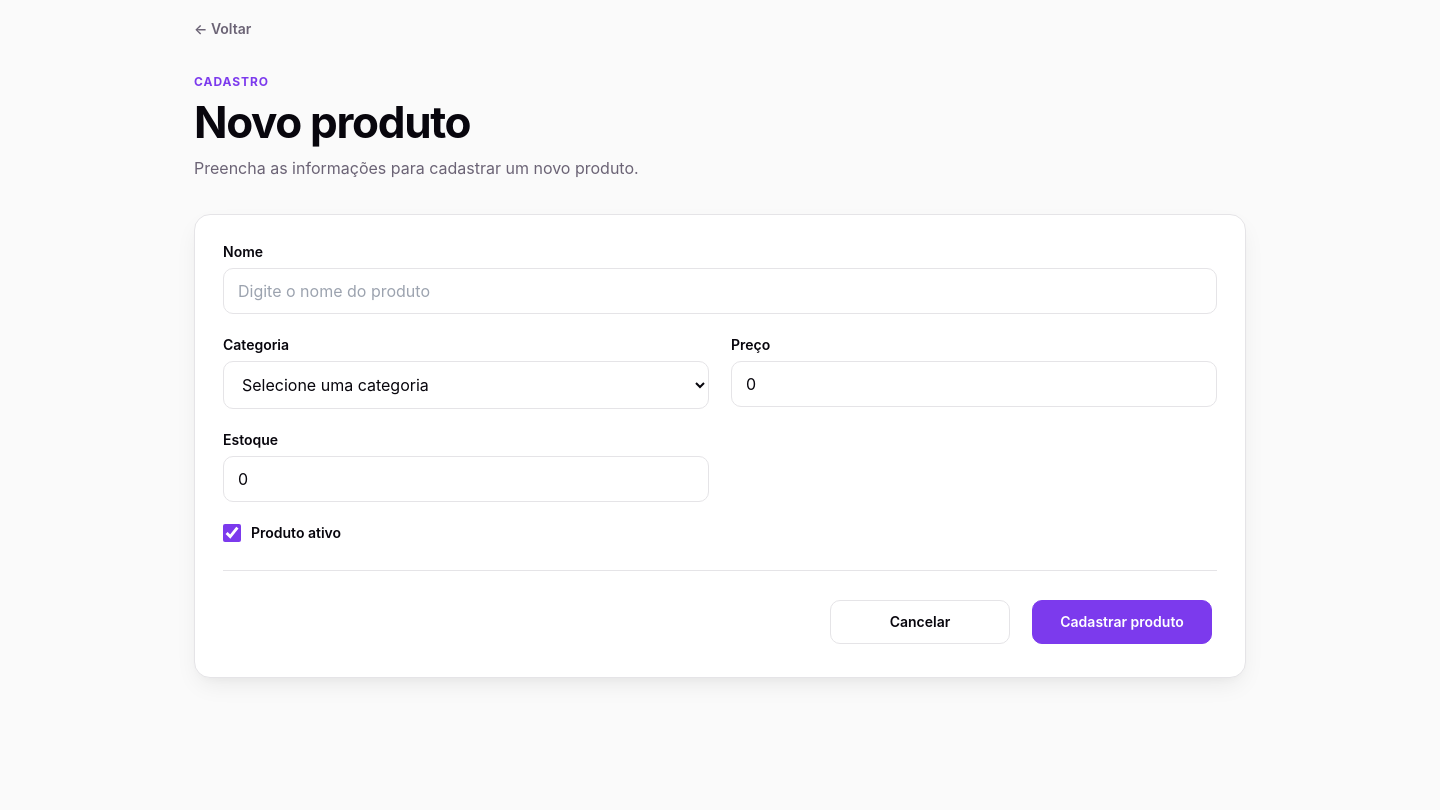
Scenario: ProductFormPage › cria um produto válido
The image size is (1440, 810).
Type "Teclado" into the field labelled "Nome".
click(720, 291); type("Teclado")  # box x1=223 y1=268 x2=1217 y2=314
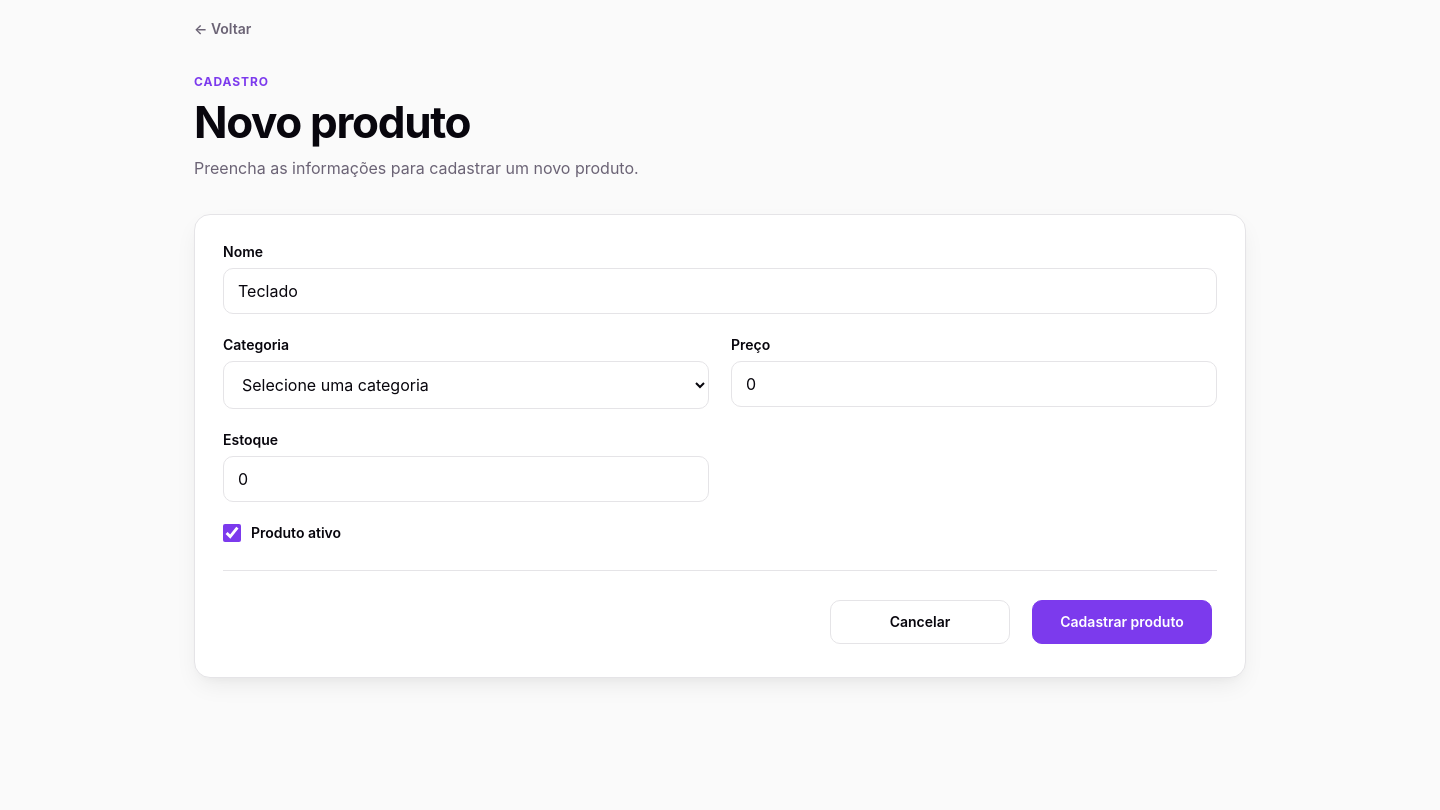
Select "Periféricos" in the dropdown labelled "Categoria" at [466, 385], box x1=223 y1=361 x2=709 y2=409
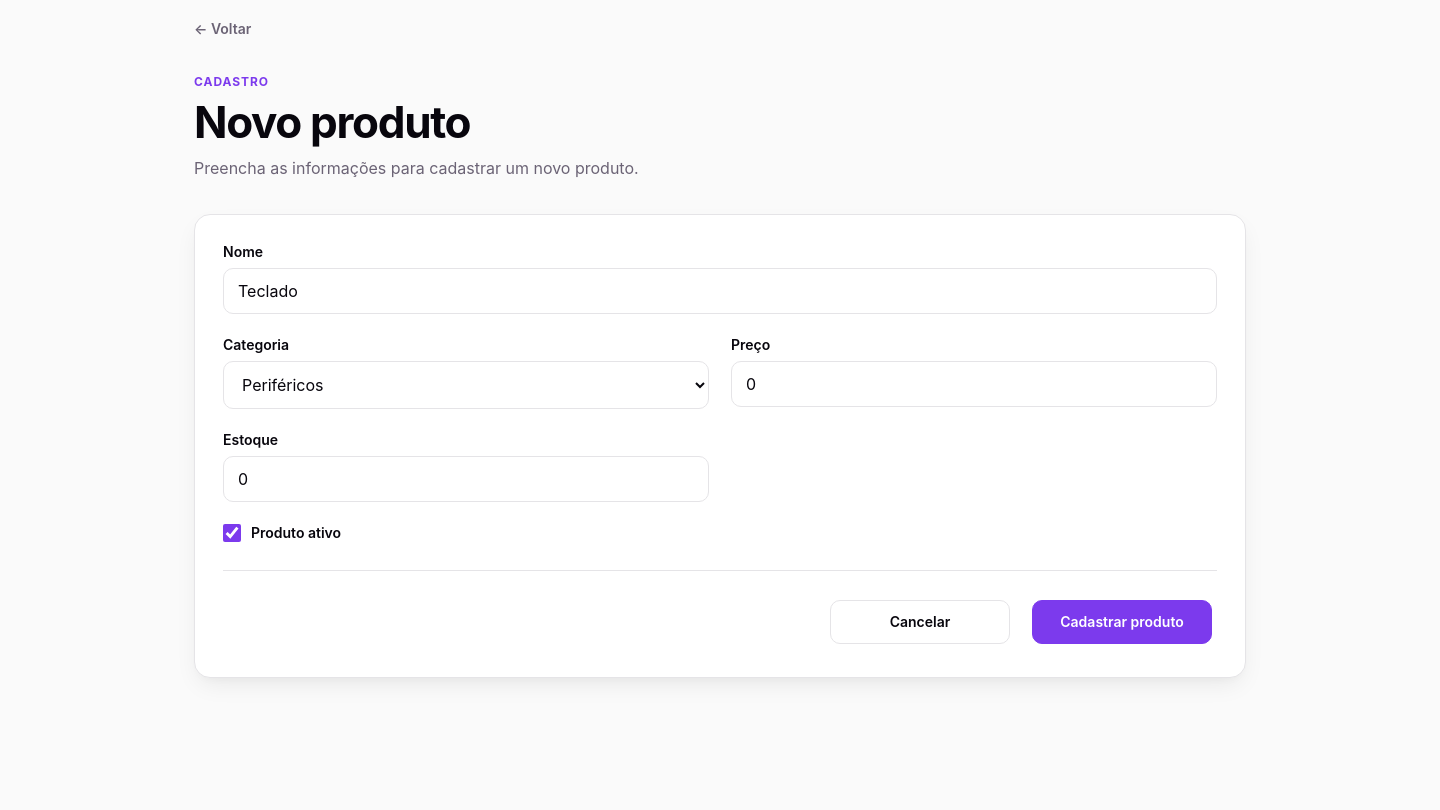
Replace the text in the number field labelled "Preço" with "100" at [974, 384], box x1=731 y1=361 x2=1217 y2=407
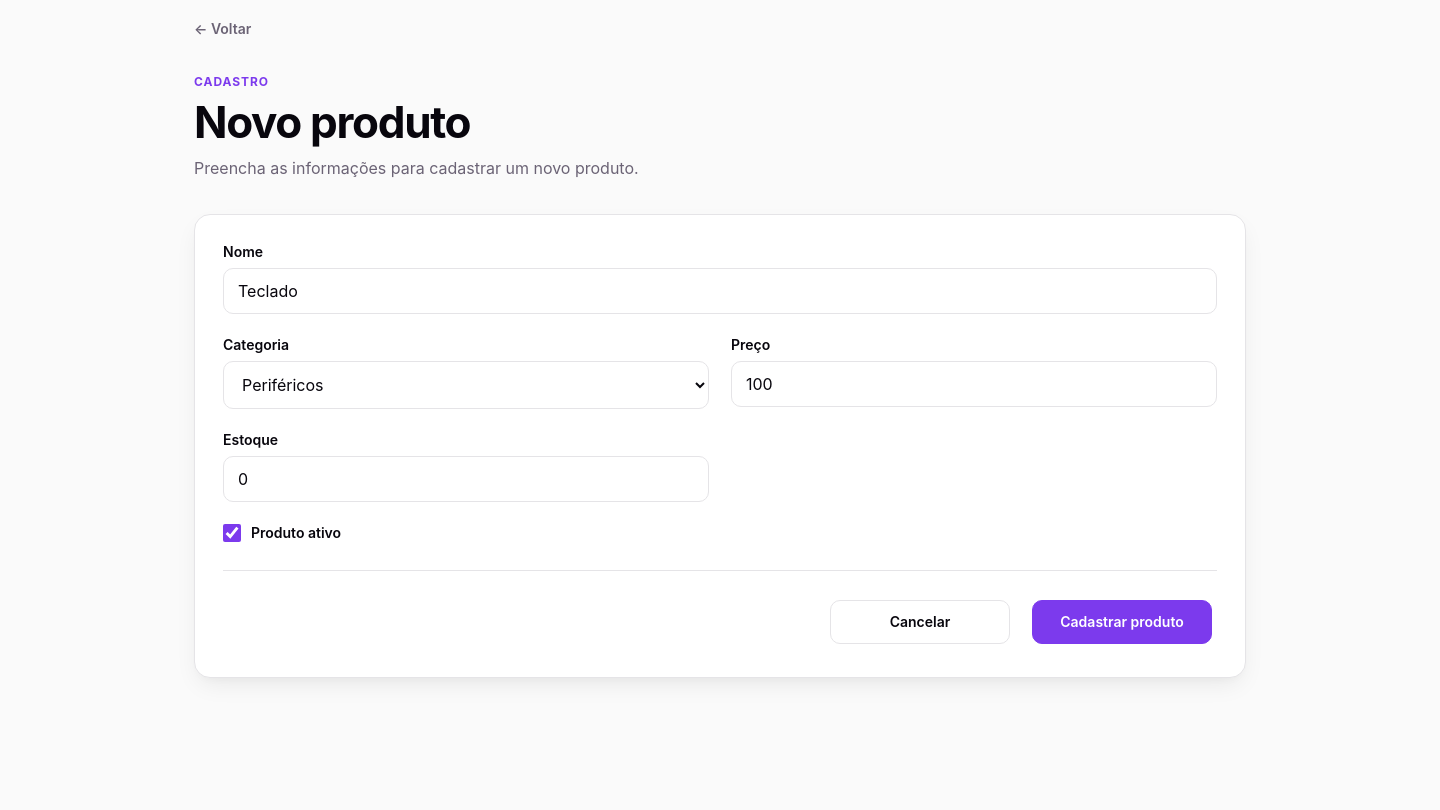
Type "5" into the number field labelled "Estoque".
click(466, 479); type("5")  # box x1=223 y1=456 x2=709 y2=502
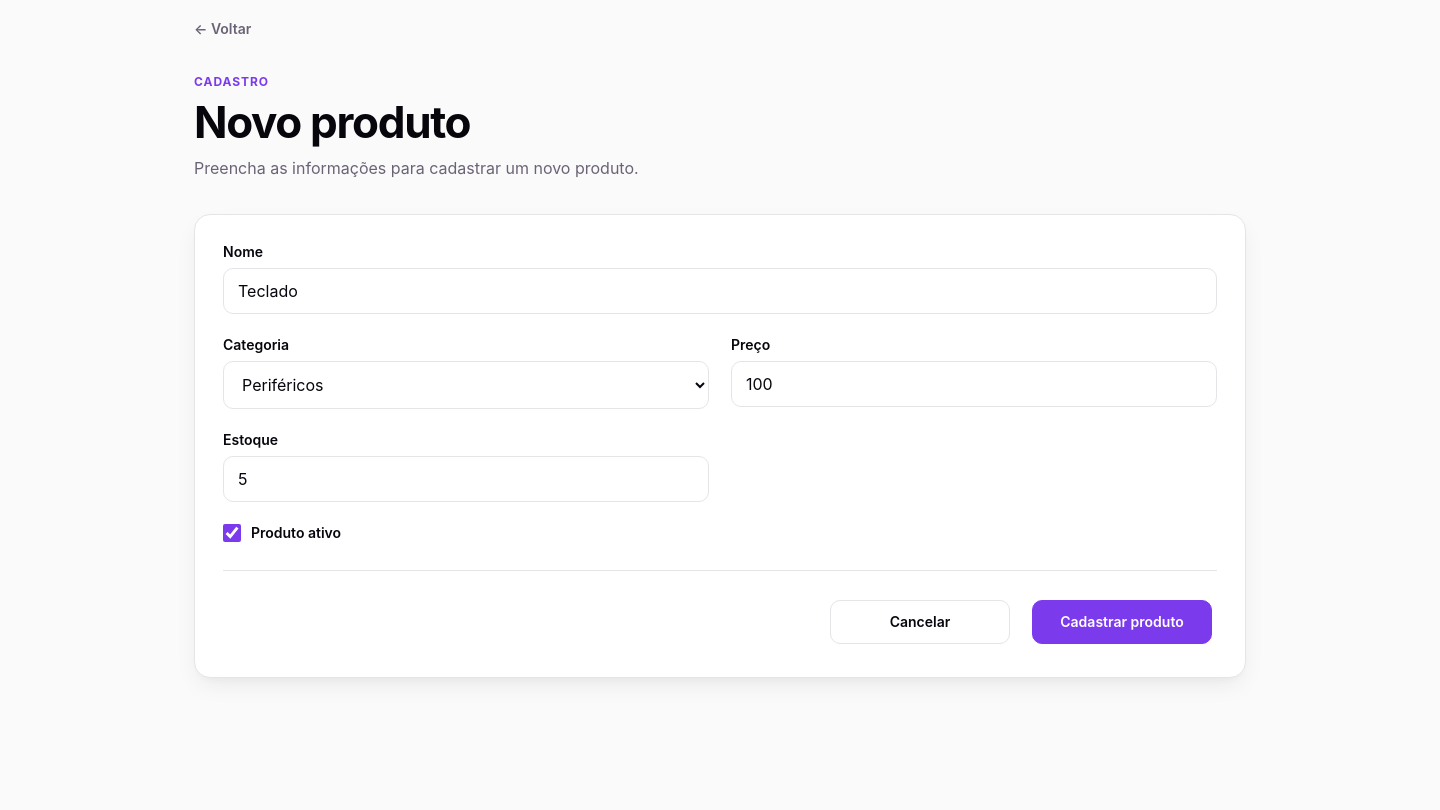
Submit the form, box x1=194 y1=214 x2=1246 y2=678
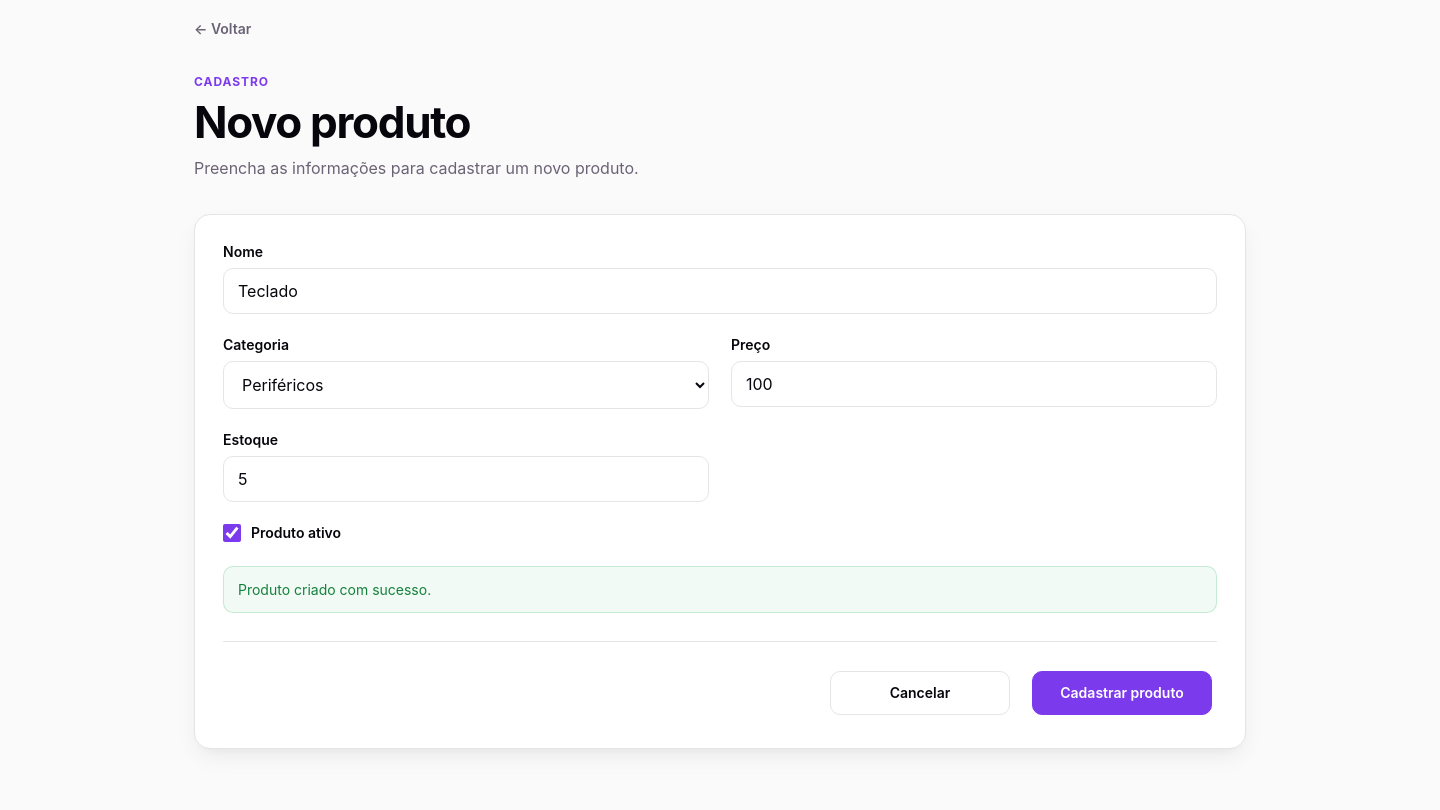
expect the text "Produto criado com sucesso." is shown: met, box x1=223 y1=566 x2=1217 y2=613
